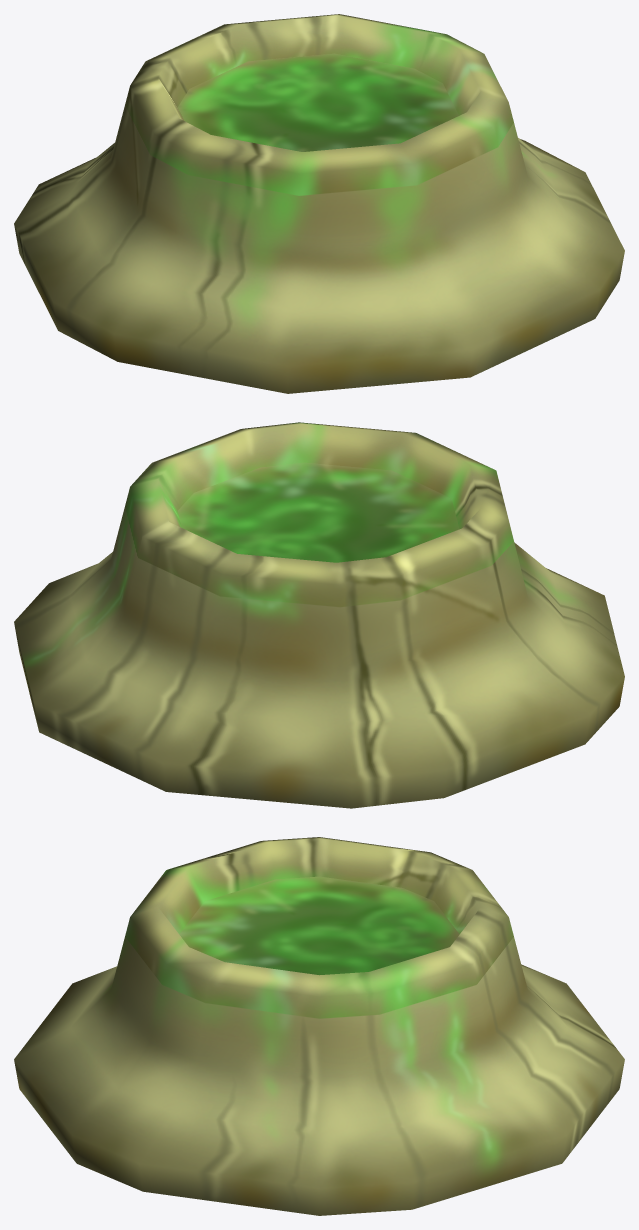
The model's file is 1. Gas, essence.fbx.
3 renders of one model, top to bottom at view 1: azimuth 30°, elevation 25°; view 2: azimuth 150°, elevation 25°; view 3: azimuth 270°, elevation 25°, orthographic. The views are drawn at different scales.
Parts seen in each view (by area): view 1: pCylinder6; view 2: pCylinder6; view 3: pCylinder6.
Boxes of the visible parts, left/top/right/bottom form: pCylinder6: left=14, top=14, right=624, bottom=393; pCylinder6: left=14, top=422, right=624, bottom=808; pCylinder6: left=14, top=837, right=624, bottom=1215.
Size of the model in its own units: 1.54 by 0.5058 by 1.54.
1 material, 1 textured.
